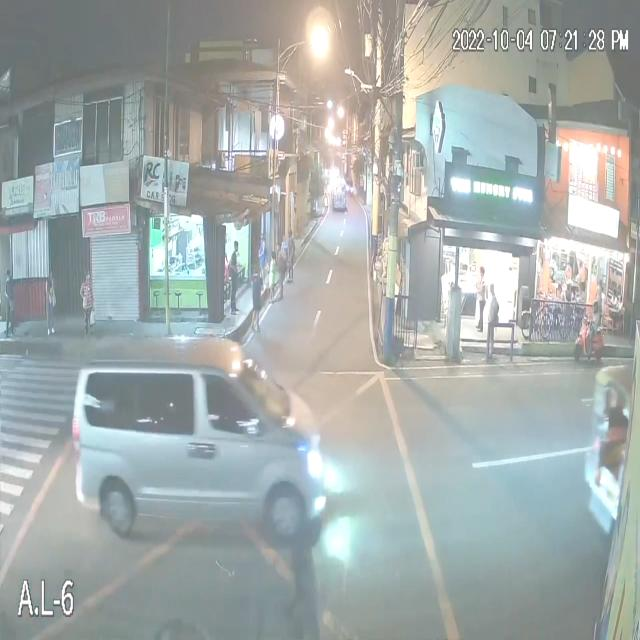Full-Faced: (590, 298, 600, 314)
